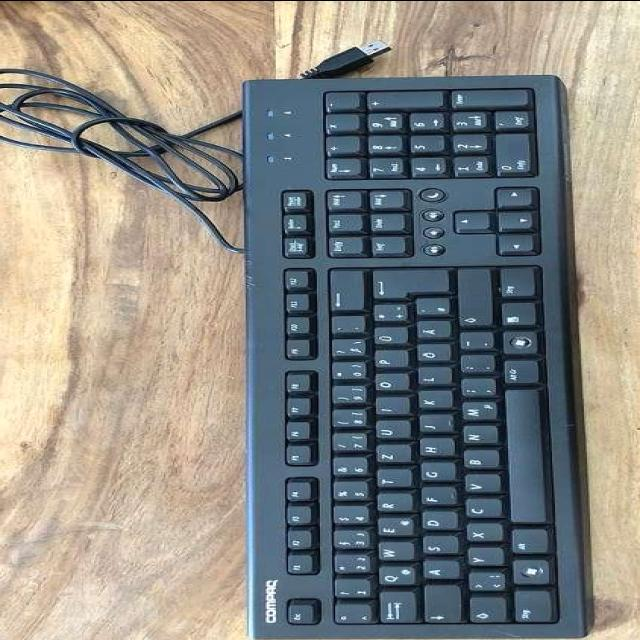0: (326, 363, 364, 381)
1: (329, 580, 370, 600)
2: (329, 555, 369, 575)
3: (329, 531, 369, 551)
4: (328, 507, 368, 525)
5: (328, 482, 368, 502)
6: (328, 458, 366, 478)
7: (328, 433, 366, 453)
8: (328, 411, 366, 429)
9: (328, 386, 364, 406)
a: (419, 561, 459, 581)
accent: (328, 317, 364, 335)
ae: (411, 322, 449, 340)
alt-left: (507, 530, 547, 556)
altgr-right: (499, 360, 537, 385)
b: (458, 450, 498, 470)
c: (461, 500, 499, 519)
caret: (330, 604, 372, 626)
comma: (457, 379, 495, 399)
d: (417, 511, 457, 531)
del: (325, 271, 363, 313)
e: (372, 518, 412, 538)
enter: (367, 270, 447, 302)
f: (417, 488, 455, 506)
g: (416, 464, 454, 482)
h: (414, 438, 452, 458)
hash: (411, 299, 449, 317)
i: (370, 398, 406, 416)
j: (414, 416, 450, 434)
k: (413, 391, 449, 409)
keyboard: (238, 74, 590, 640)
l: (413, 368, 449, 386)
less: (464, 572, 504, 593)
m: (457, 402, 495, 422)
minus: (455, 333, 491, 351)
n: (458, 426, 496, 446)
o: (370, 374, 408, 392)
oe: (413, 345, 449, 363)
p: (369, 351, 407, 369)
plus: (369, 306, 405, 324)
point: (455, 355, 493, 375)
q: (373, 567, 413, 587)
r: (373, 493, 411, 513)
s: (419, 537, 457, 557)
shift-left: (466, 598, 506, 625)
shift-lock: (420, 585, 460, 624)
shift-right: (454, 269, 490, 327)
space: (502, 390, 543, 525)
ss: (326, 340, 364, 358)
strg-left: (510, 591, 552, 625)
strg-right: (498, 268, 534, 300)
t: (372, 470, 410, 488)
tab: (375, 592, 415, 624)
u: (370, 421, 410, 441)
ue: (369, 328, 407, 346)
v: (460, 475, 498, 493)
w: (373, 542, 411, 562)
x: (461, 524, 499, 542)
y: (463, 549, 503, 567)
z: (372, 445, 410, 465)
